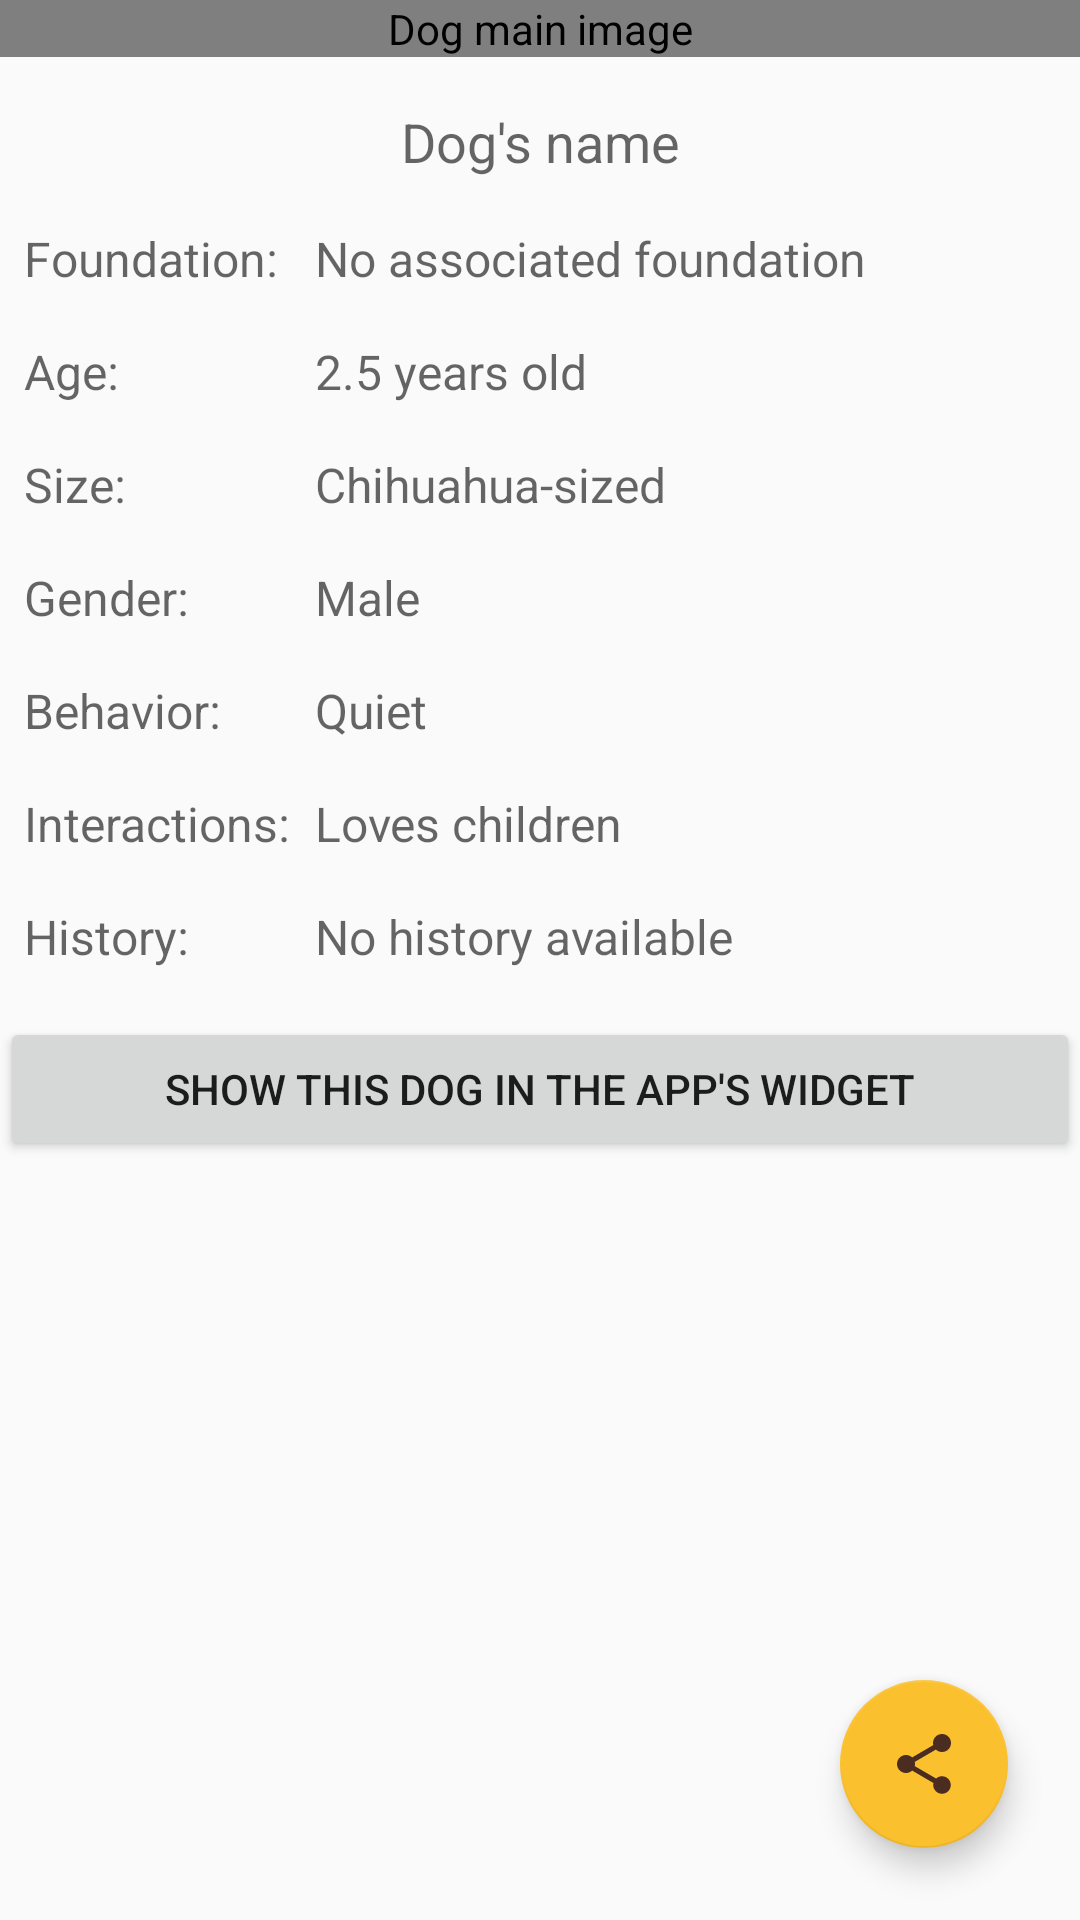

Screen size 1080px x 1920px. Icon name, then its center in pixels as (x,y):
Share this dog profile: (924,1764)
